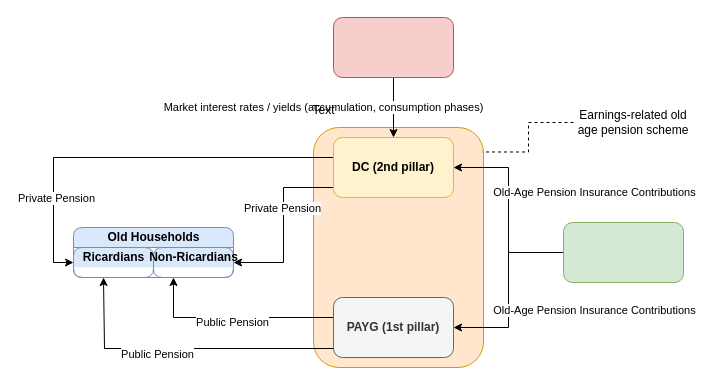
The diagram is 712 pixels wide and 385 high, and some of its shapes have lost their labels. The shapes that lost their labels are listed below. From the top down, each one's centre as x and y in pixels, then its label:
the point at 393,47: Financial Market, Banks
the point at 623,252: Firms (Domestic Producers)
